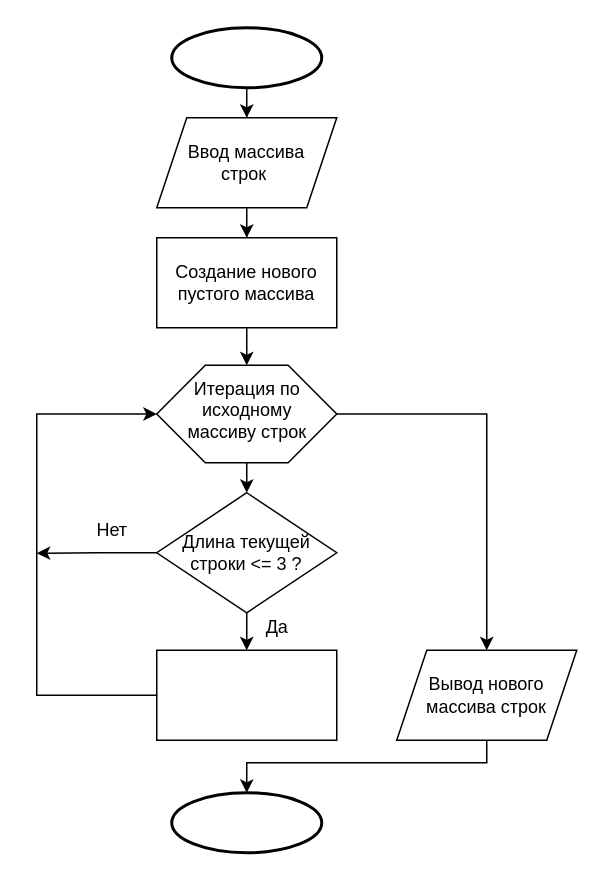
This 603x879 diagram has some shape labels left out. Here are the shapes that lost their labels. From the top down, the centre of each, then its label:
At point (246, 57): "Начало".
At point (246, 694): "Добавляем строку в новый массив".
At point (246, 822): "Конец".
